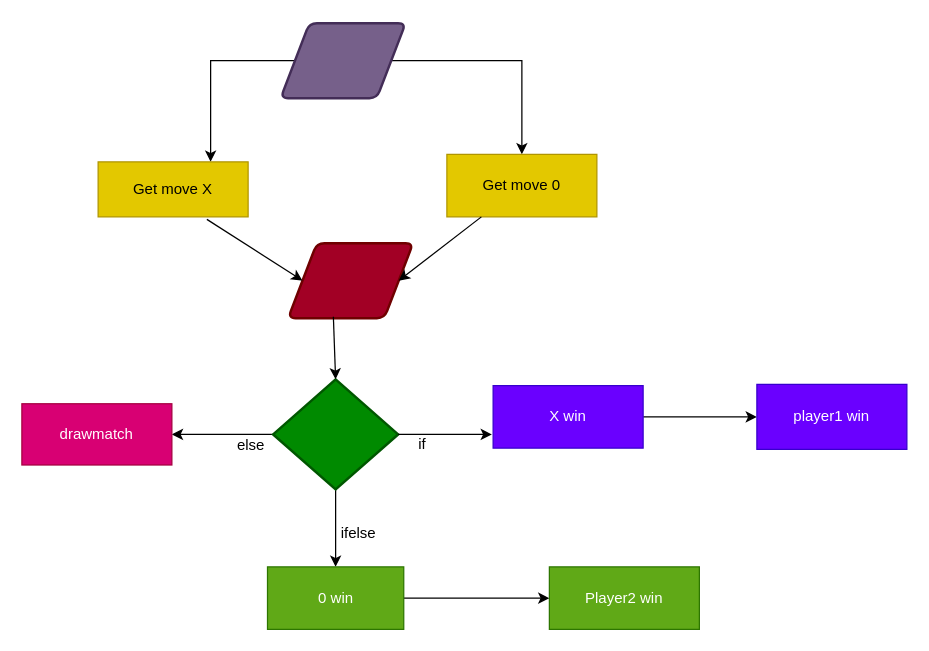
The diagram is 929 pixels wide and 651 high, and some of its shapes have lost their labels. The centre of each missing label's shape, as x and y in pixels:
select position: point (342, 60)
update board: point (350, 280)
win?: point (335, 434)
